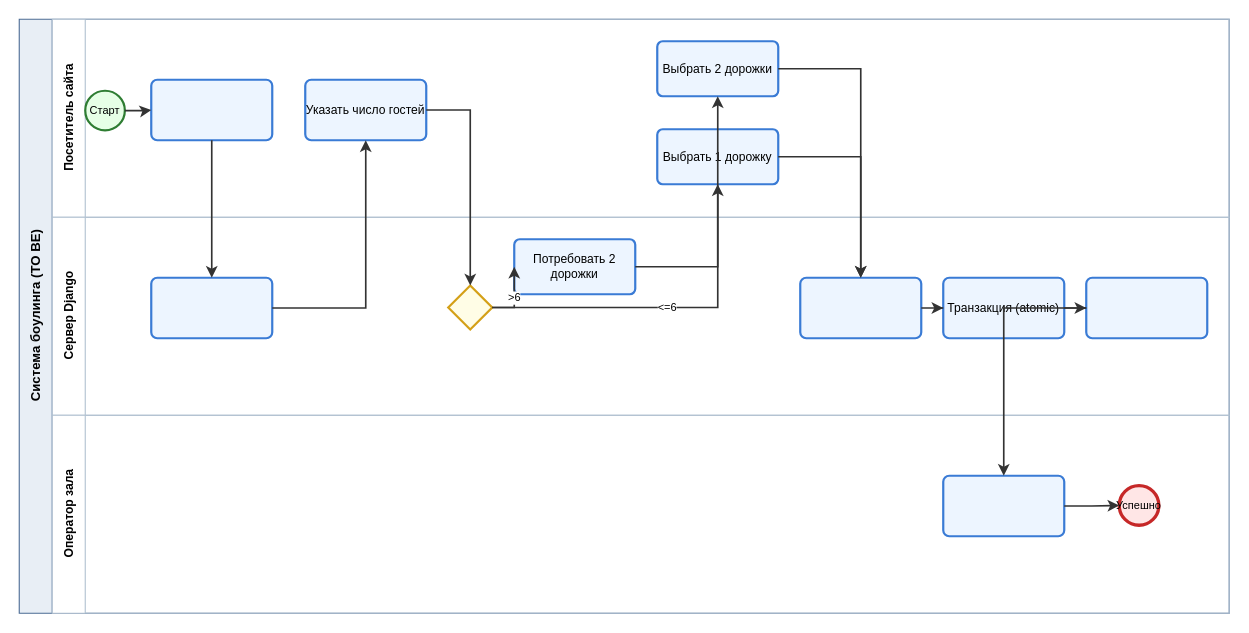
This 1249x633 diagram has some shape labels left out. Each missing label, with the centre of its shape:
> 6 гостей?: (x=470, y=307)
Выбрать дату и время: (x=211, y=109)
Отметить визит в панели: (x=1003, y=505)
Проверить слоты (Fetch JSON): (x=211, y=307)
Рассчитать стык тарифов: (x=860, y=307)
Сформировать талон и email: (x=1146, y=307)
